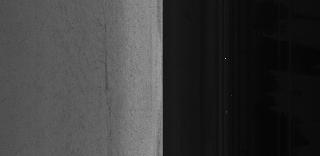silk spot: (84, 33, 118, 115)
